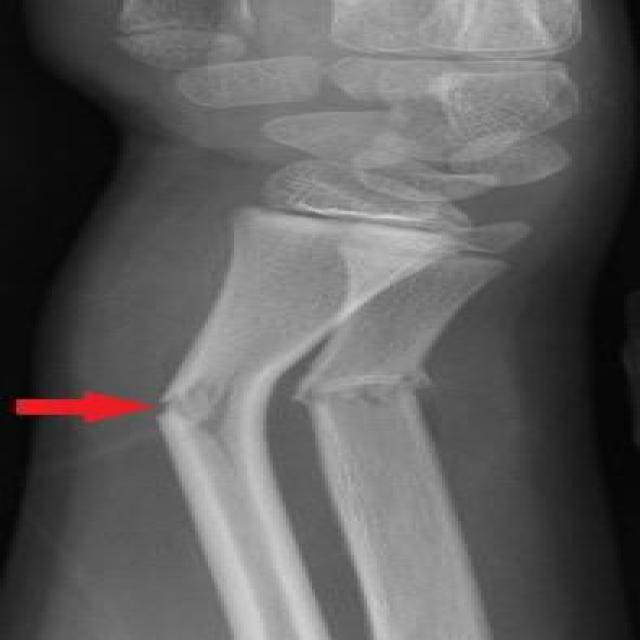bone: (148, 352, 447, 460)
